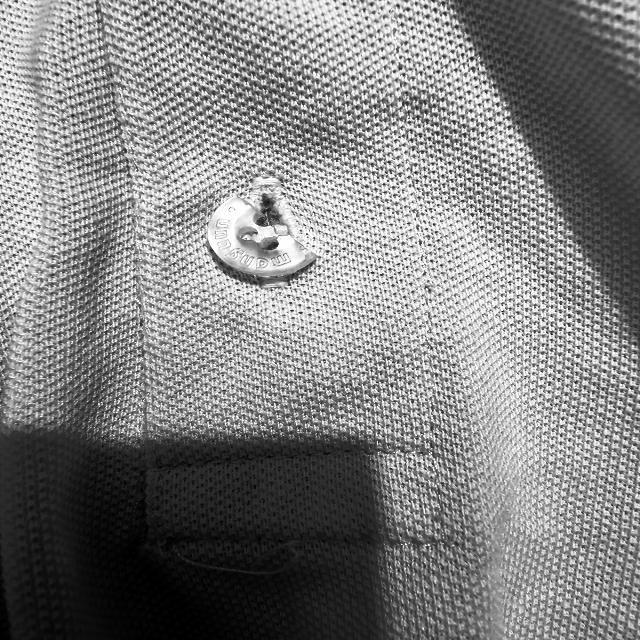Broken_button: (189, 182, 328, 290)
